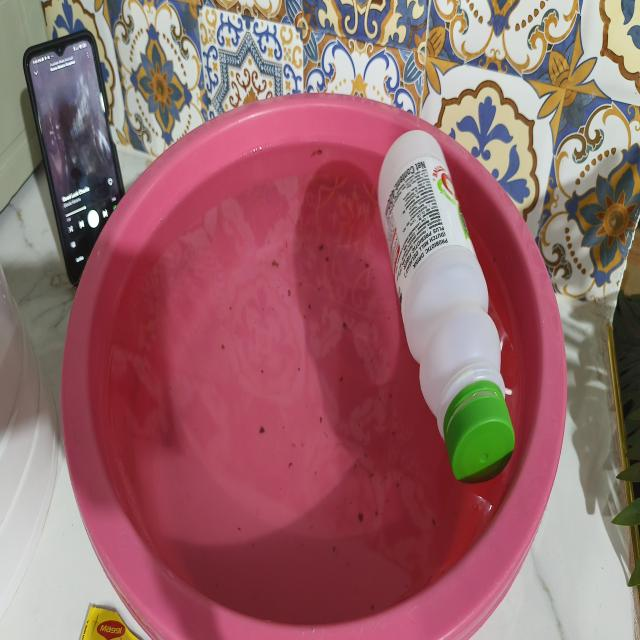Plastic Bottle: (356, 100, 542, 492)
